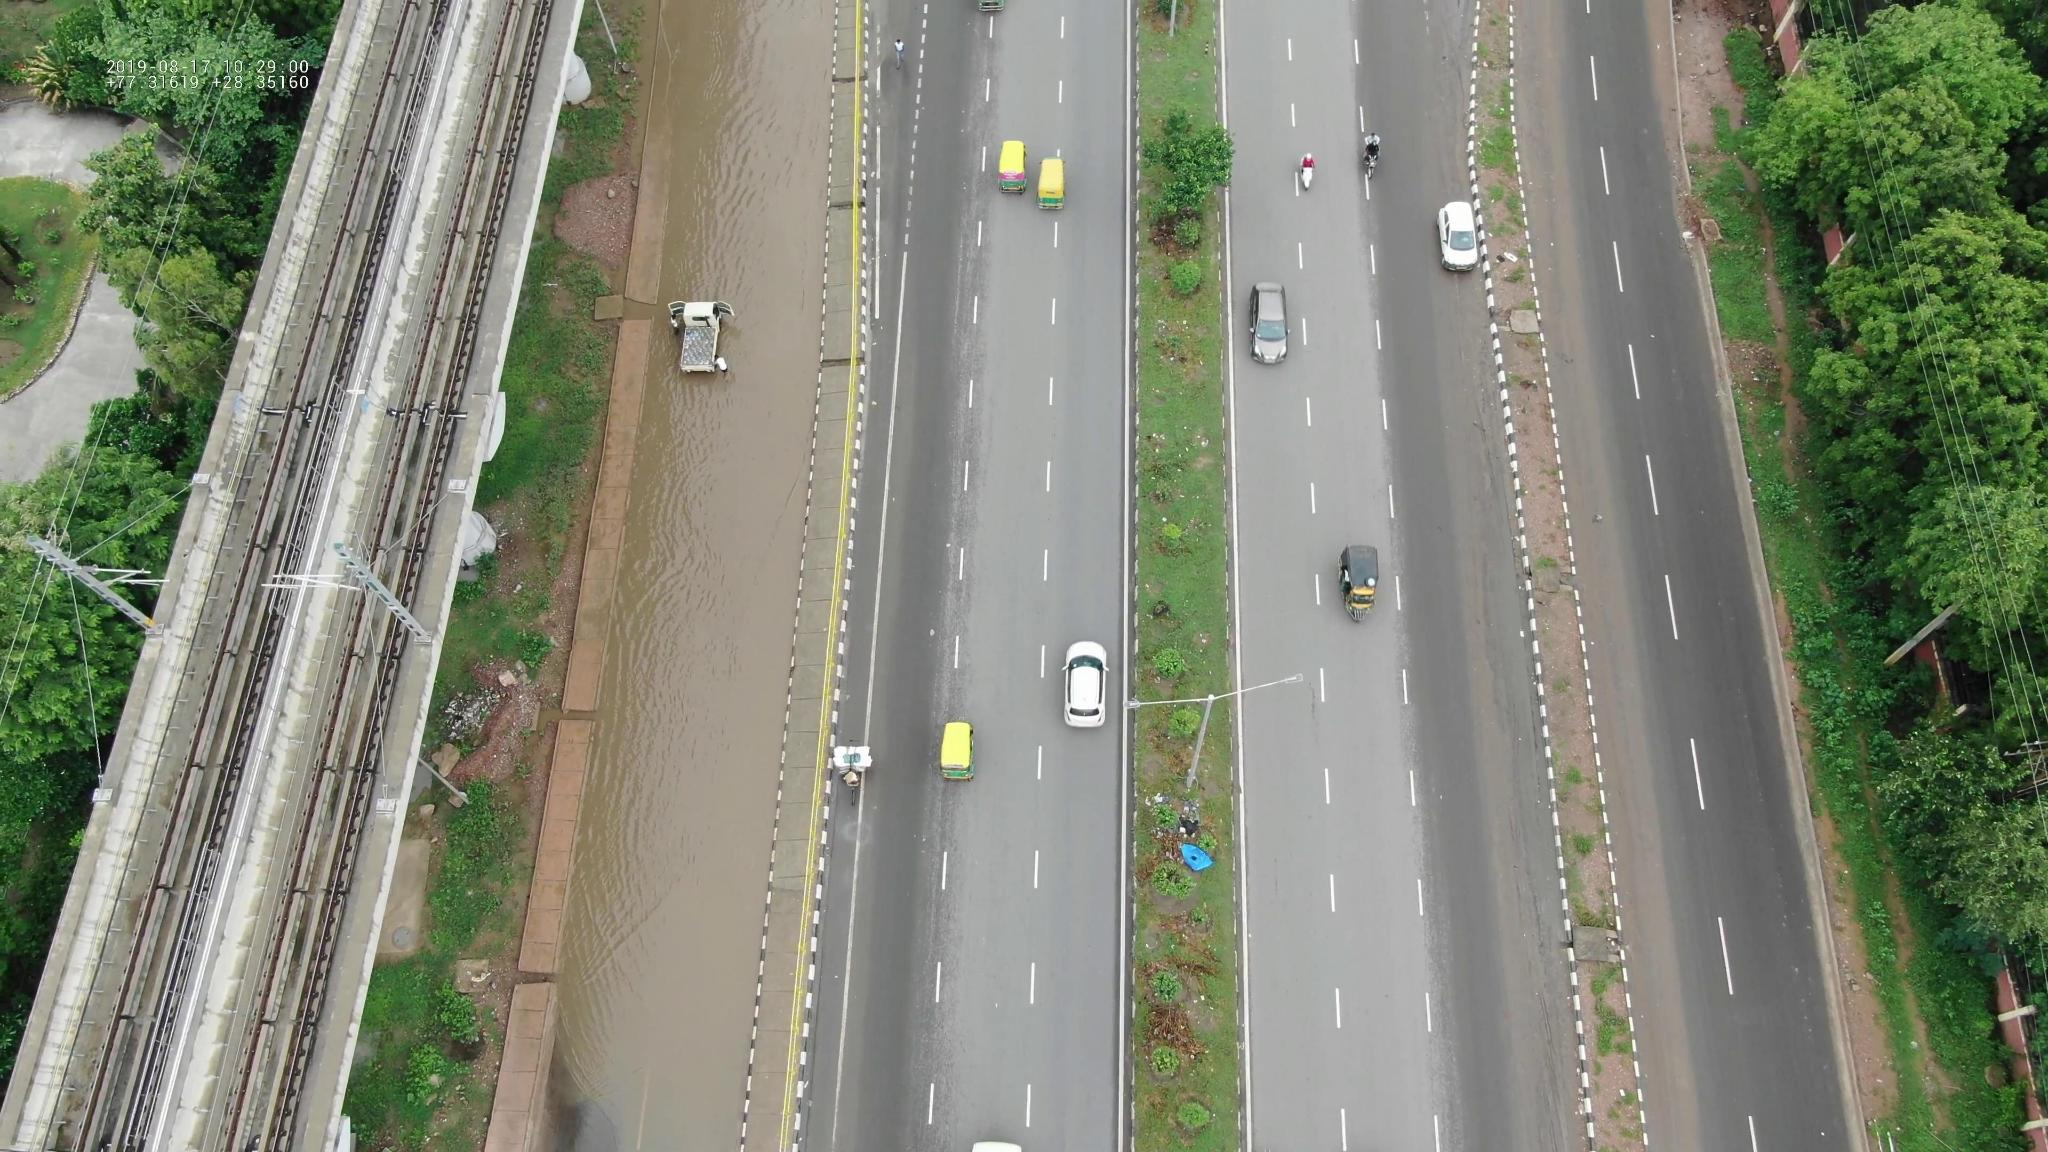Muddy_road: (1567, 529, 1665, 843), (1439, 364, 1525, 708), (1491, 741, 1580, 1047), (1535, 267, 1634, 511), (1627, 865, 1702, 1137), (1508, 18, 1577, 257)
Ravelling: (935, 433, 1009, 700), (949, 181, 1009, 399)
Waterlogging: (551, 633, 791, 1139), (612, 101, 845, 616)
